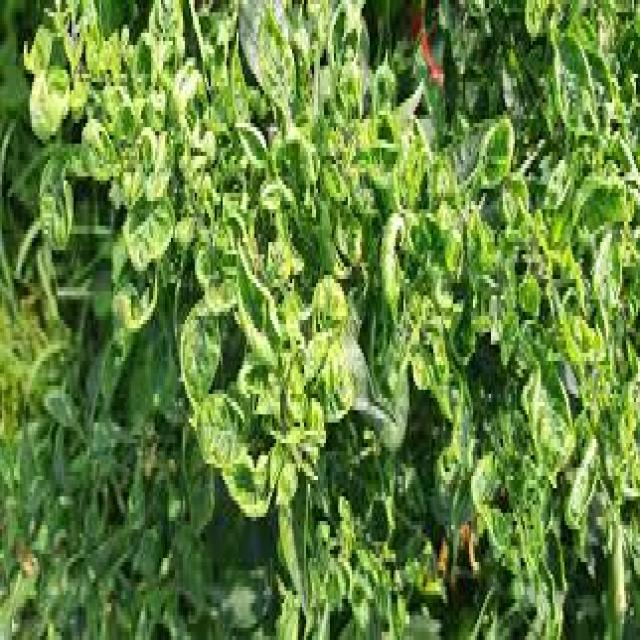Nutirtion_deficie: (137, 175, 373, 552), (380, 40, 559, 446), (11, 0, 211, 289), (246, 0, 388, 246), (509, 0, 640, 254), (554, 252, 640, 562), (464, 426, 565, 640)
